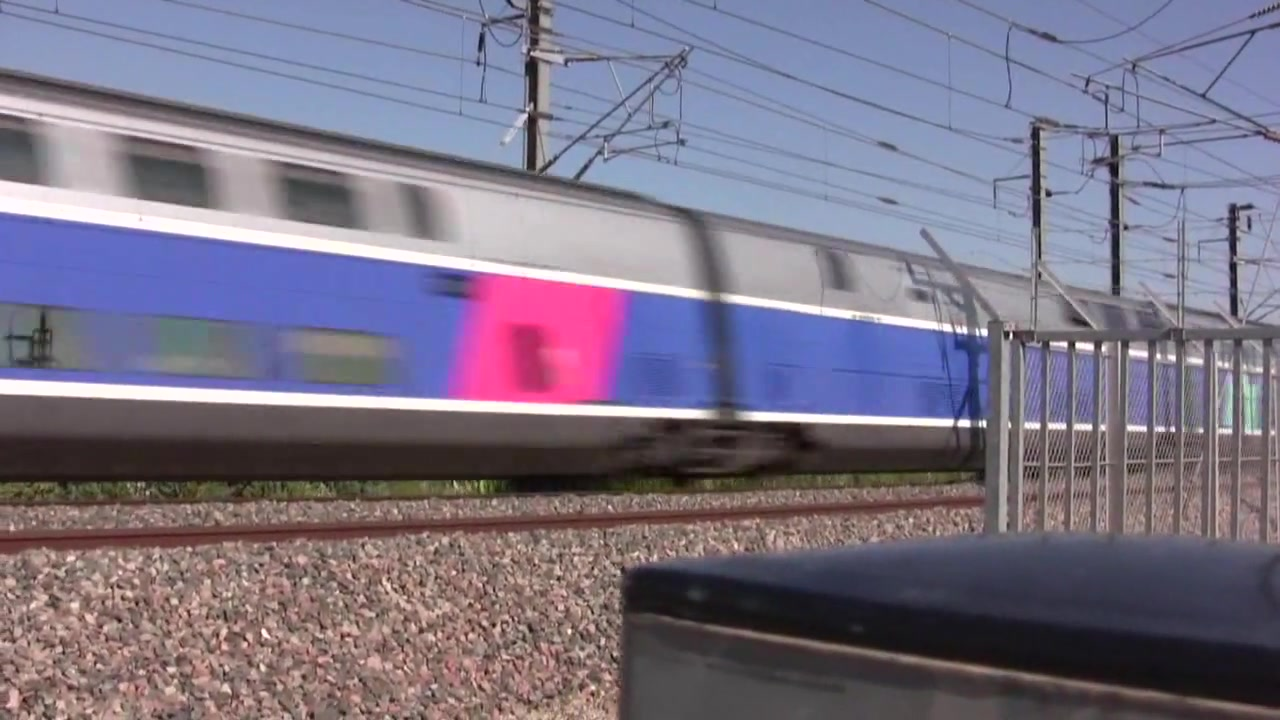train: (1, 66, 1280, 479)
